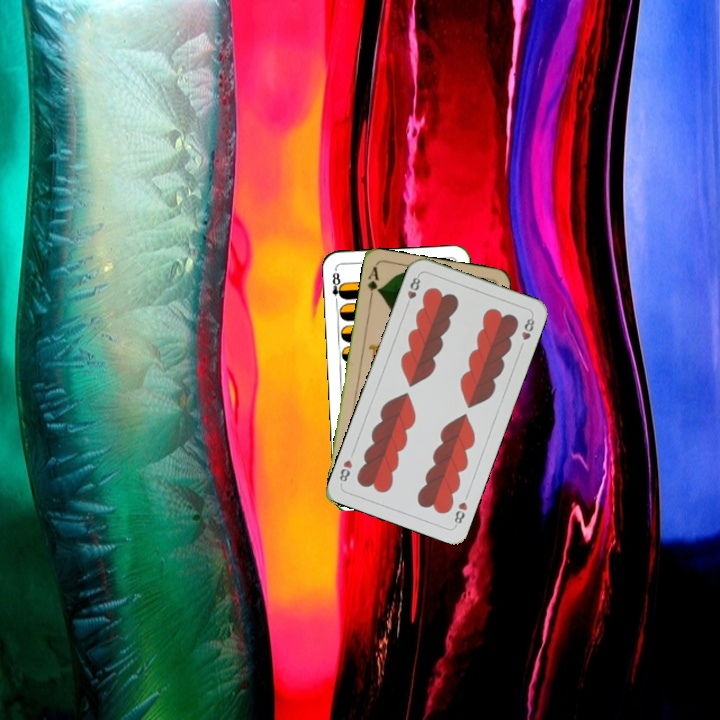E8: (328, 266, 346, 306)
GA: (363, 263, 382, 303)
H8: (402, 271, 423, 310), (450, 498, 470, 529)
